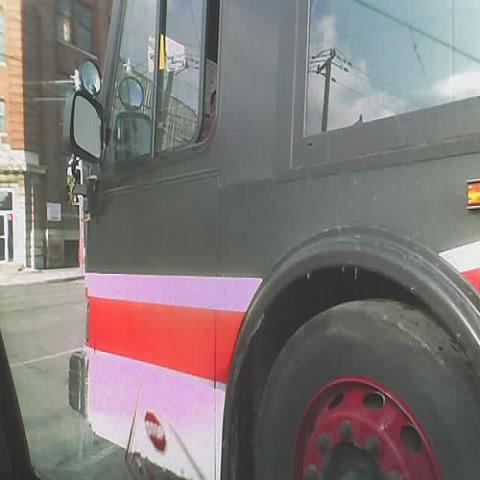bus: (75, 0, 479, 474)
